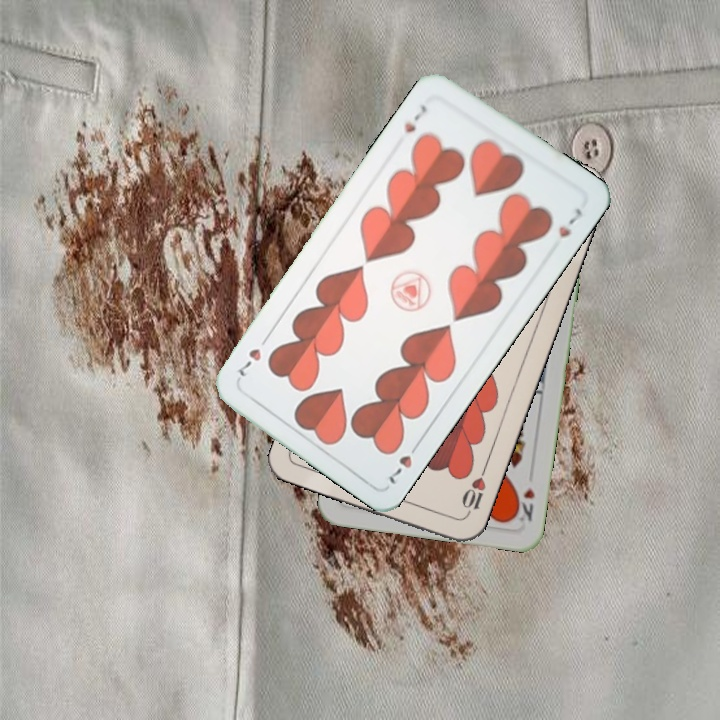H10: (457, 463, 489, 520)
H7: (384, 437, 423, 487), (400, 101, 429, 136)
HK: (510, 484, 538, 525)
